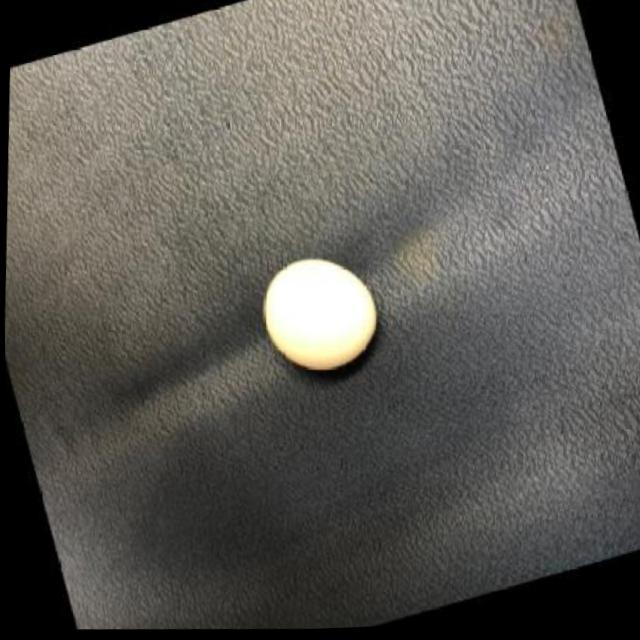egg: (255, 251, 383, 382)
